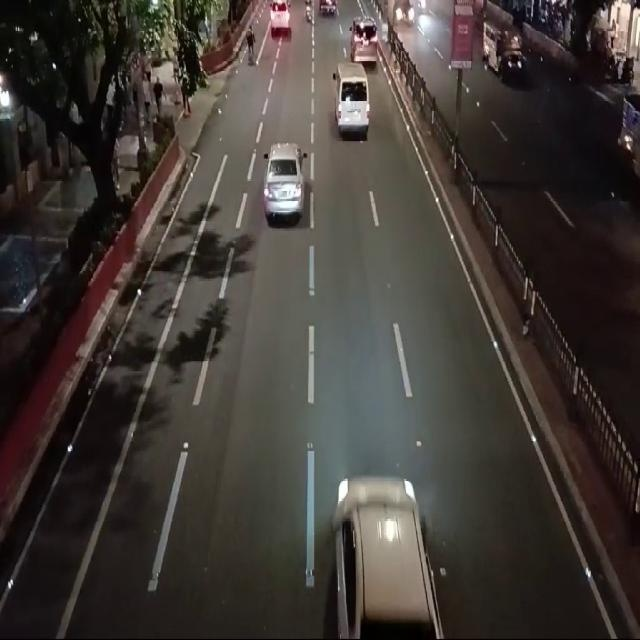car: (328, 472, 432, 640), (260, 130, 309, 238), (332, 60, 370, 141), (347, 17, 381, 64), (266, 3, 294, 37), (392, 1, 416, 29)
jeepney: (483, 19, 525, 82)
